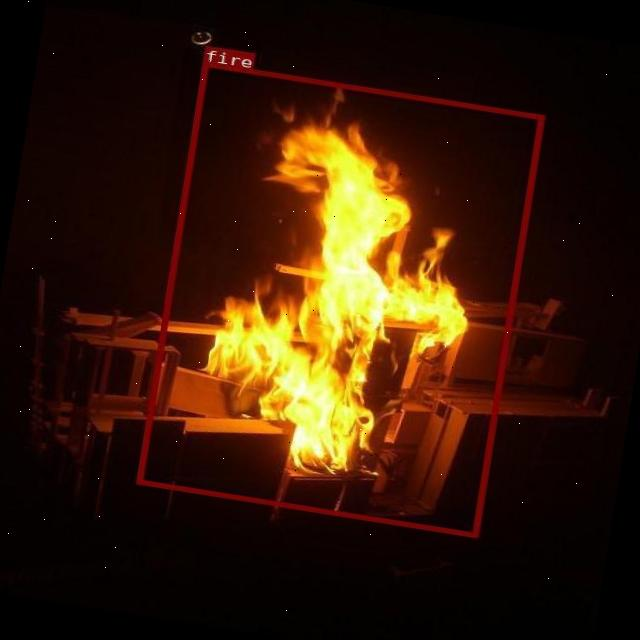fire: (135, 61, 544, 536)
